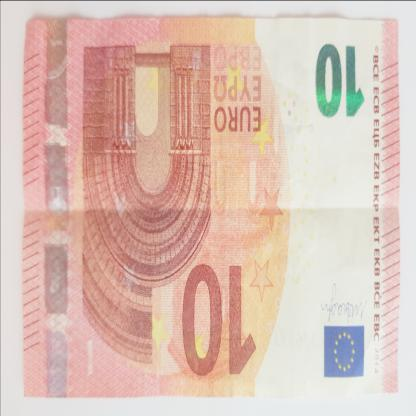euro_banknote: (21, 20, 403, 397)
